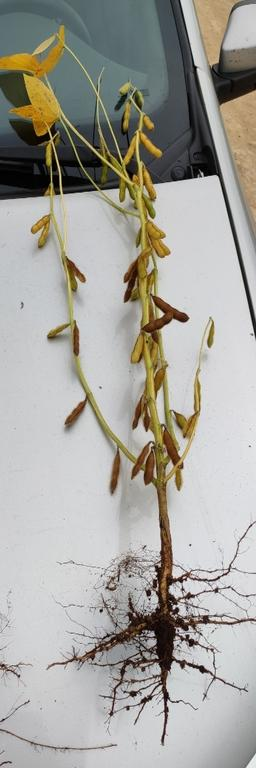pod: (61, 393, 94, 430), (161, 425, 186, 472), (104, 449, 124, 495), (143, 310, 174, 337), (129, 444, 149, 483), (139, 131, 162, 162), (143, 451, 159, 487), (47, 319, 71, 343), (139, 191, 157, 220), (118, 100, 133, 134), (204, 319, 218, 352), (71, 322, 82, 357), (141, 116, 156, 133), (45, 142, 53, 170)
soy: (10, 31, 251, 751)
